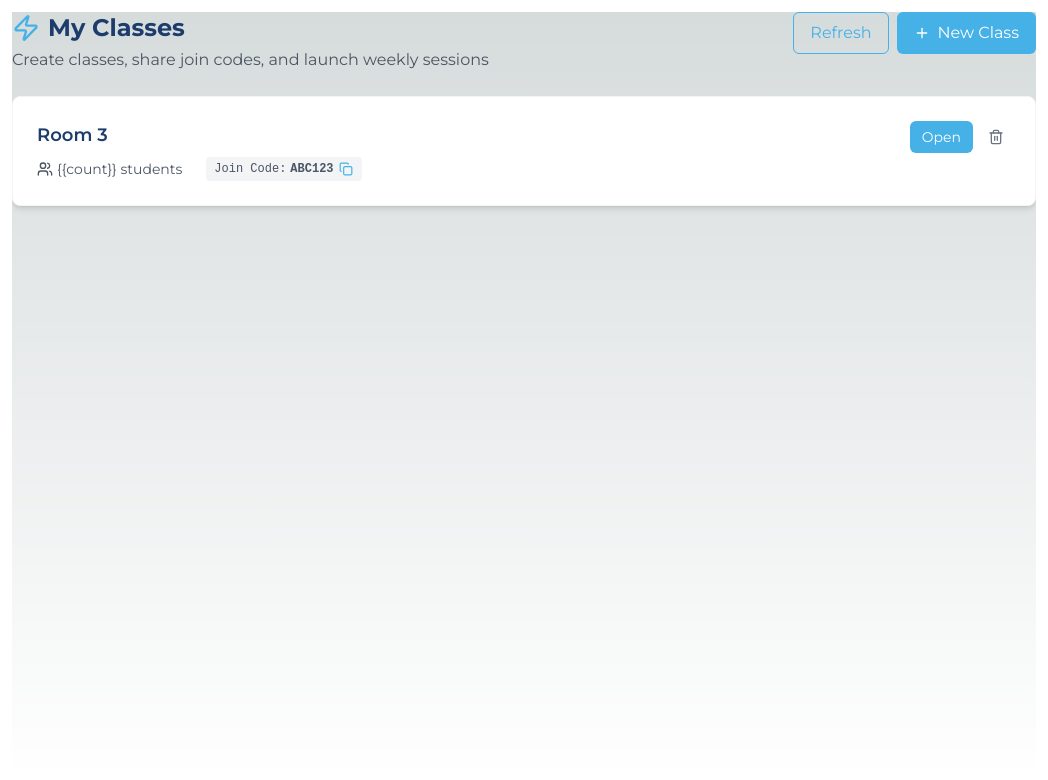
Scenario: truthful class-list loading (#899) › retains confirmed class rows during refresh and after failure
expect the link "Room 3" is shown: met, box [37,124,108,146]
Click the button "Refresh": (841, 33) [793,12,889,54]
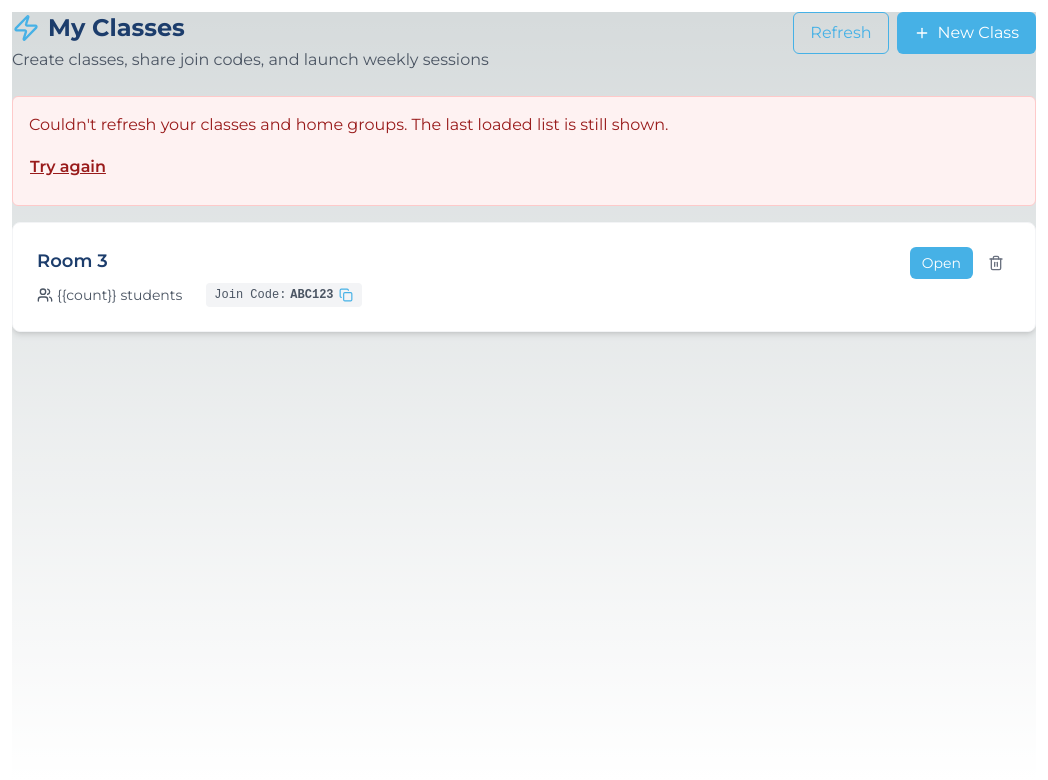
expect the link "Room 3" is shown: met, box [37,250,108,272]
expect the message shows "Couldn't refresh": met, box [29,115,668,134]
Click the button "Try again": (68, 167) [29,145,107,189]
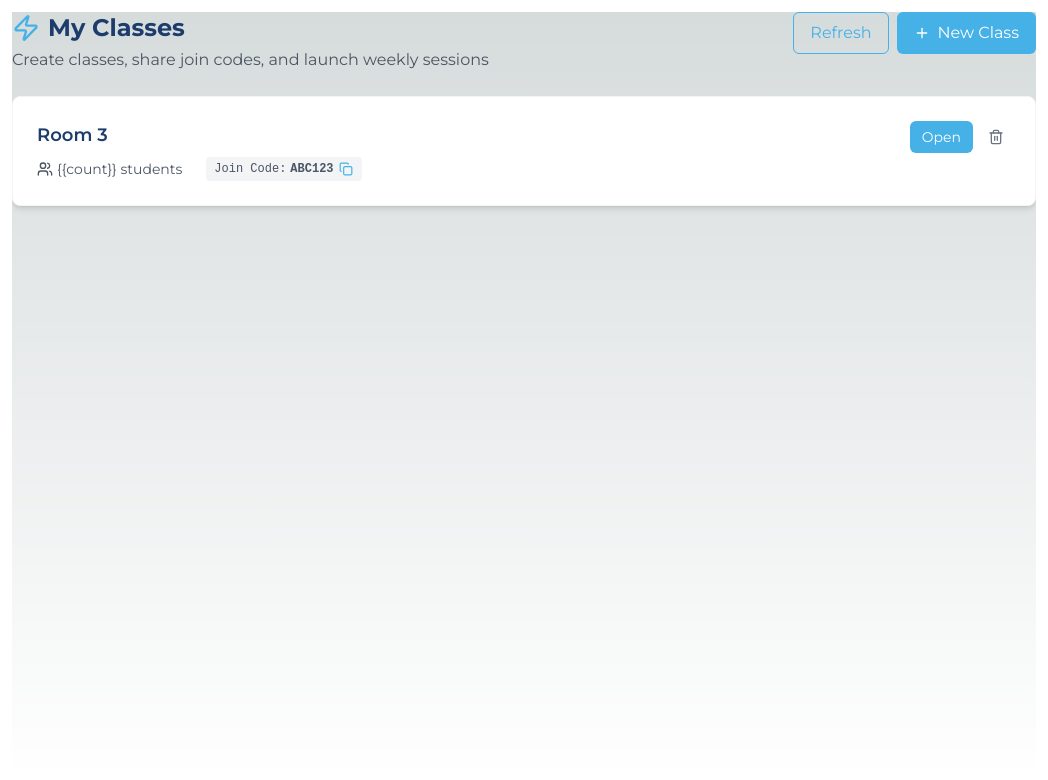
expect the link "Room 3" is shown: met, box [37,124,108,146]
expect the message is gone: met
